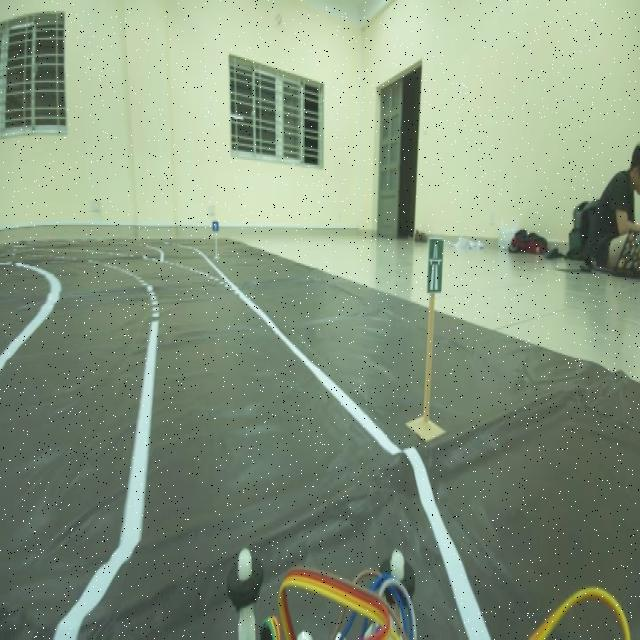highway_entry: (422, 226, 452, 302)
